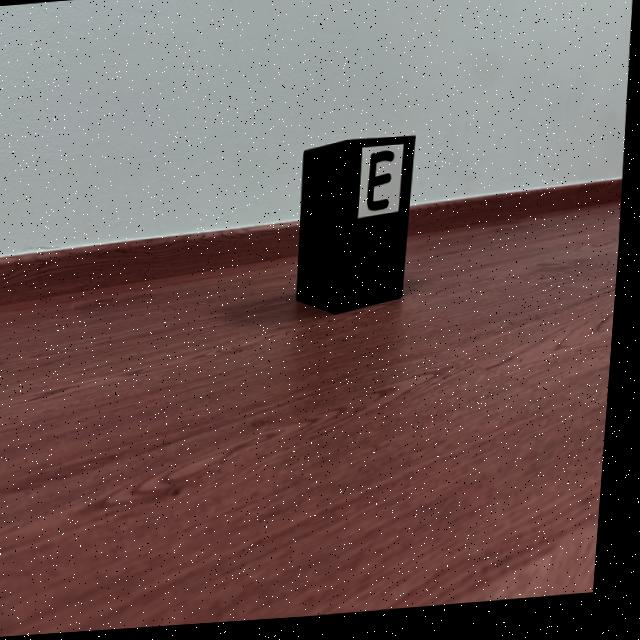E: (370, 156, 397, 215)
